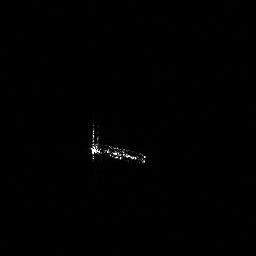ship: (91, 130, 146, 162)
